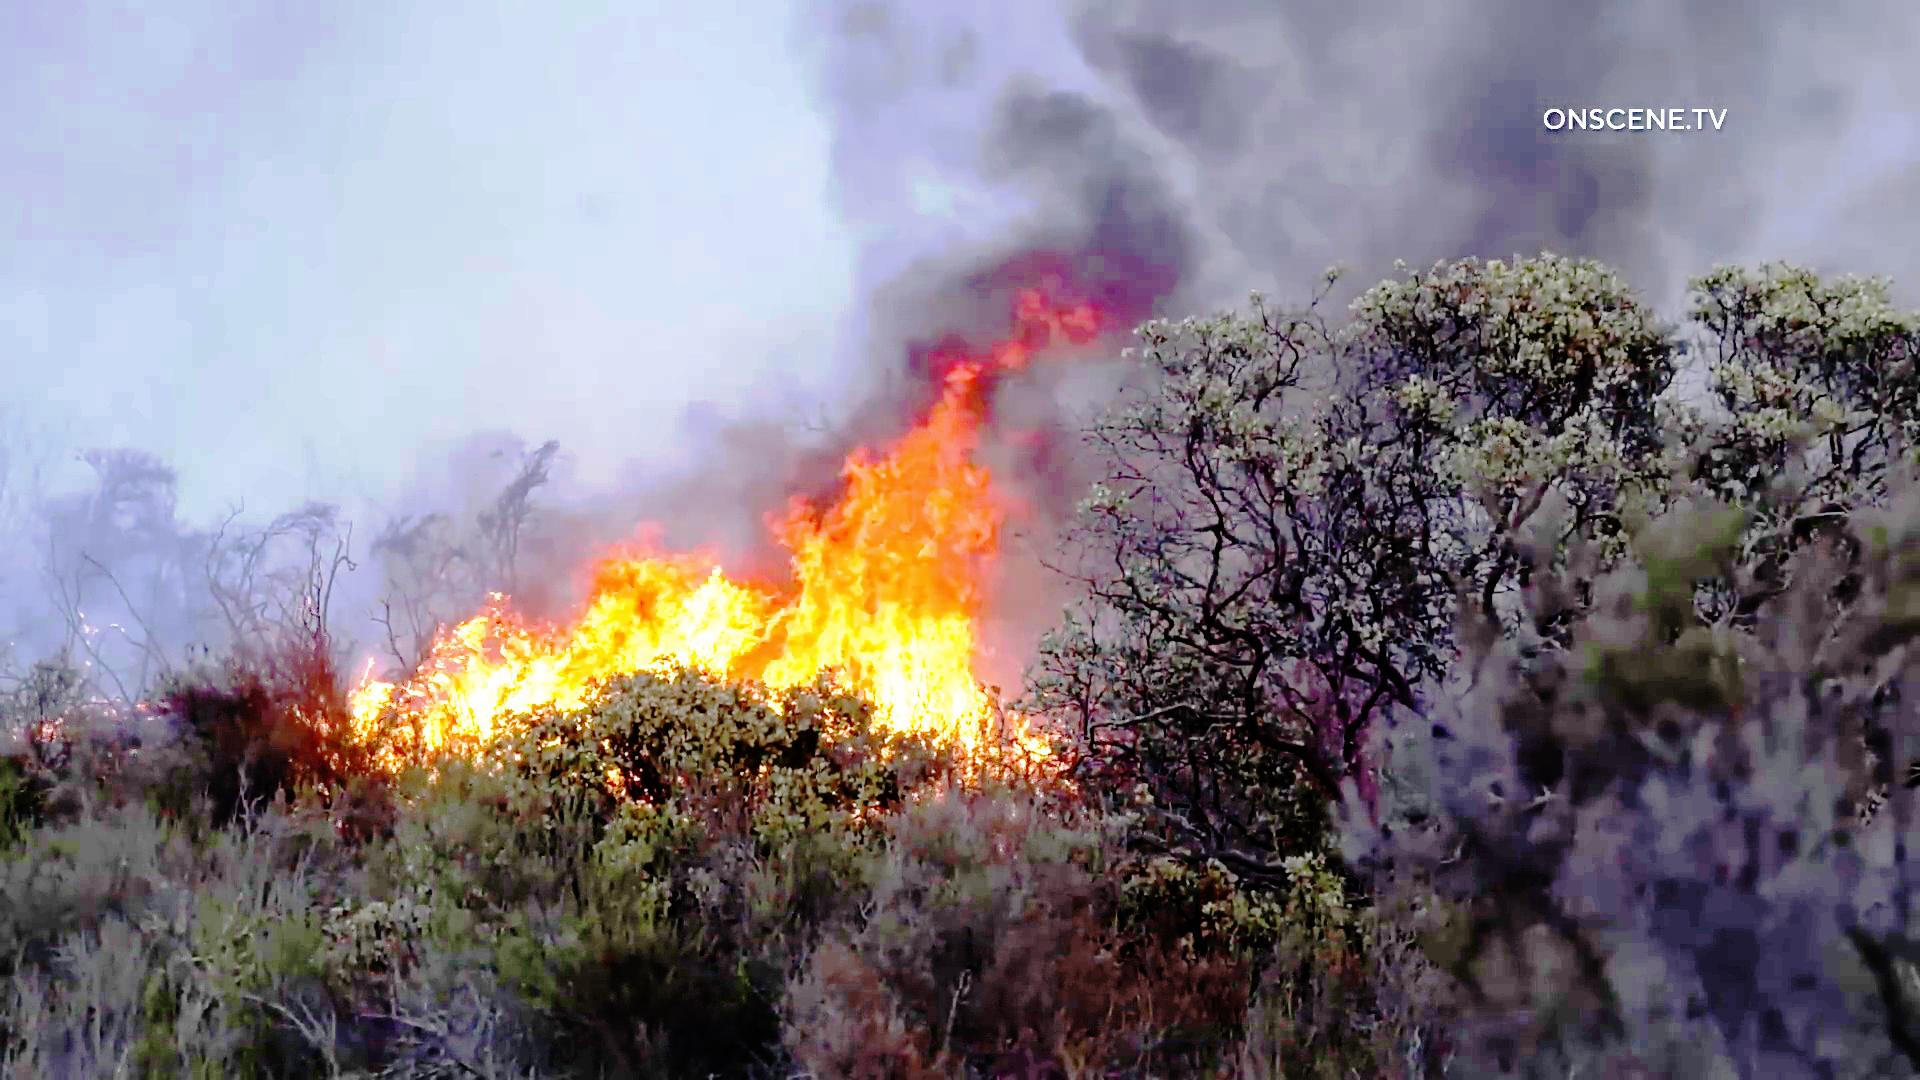fire: (349, 368, 1035, 774)
smoke: (881, 3, 1511, 257)
